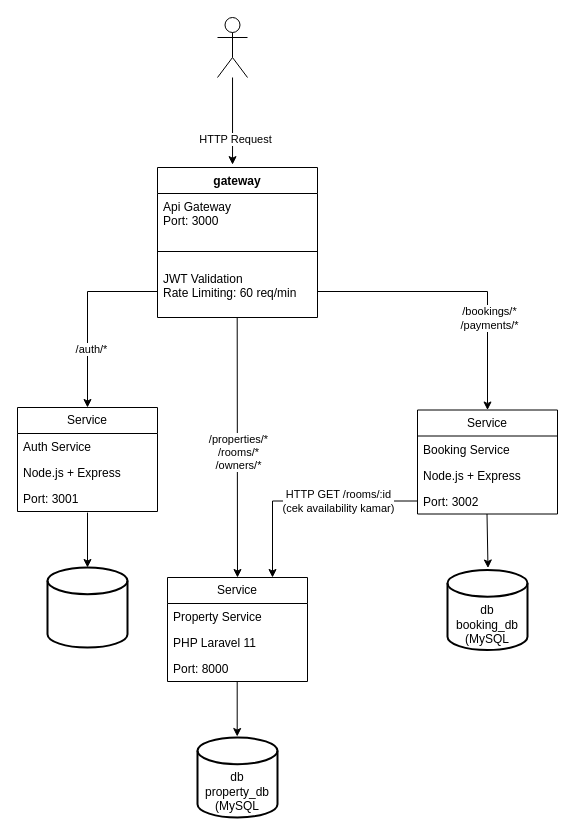
Some shapes in this 575 by 836 pixel diagram are drawn without their labels. The shapes that lost their labels are listed below. From the top down, each one's box as (x1, y1, x2, y2) in pixels, then its label:
(216, 16, 248, 78): Client (Postman / Browser)
(46, 566, 128, 648): db auth_db (MySQL
